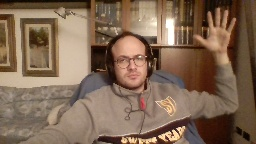Mano_aperta: (191, 5, 237, 55)
